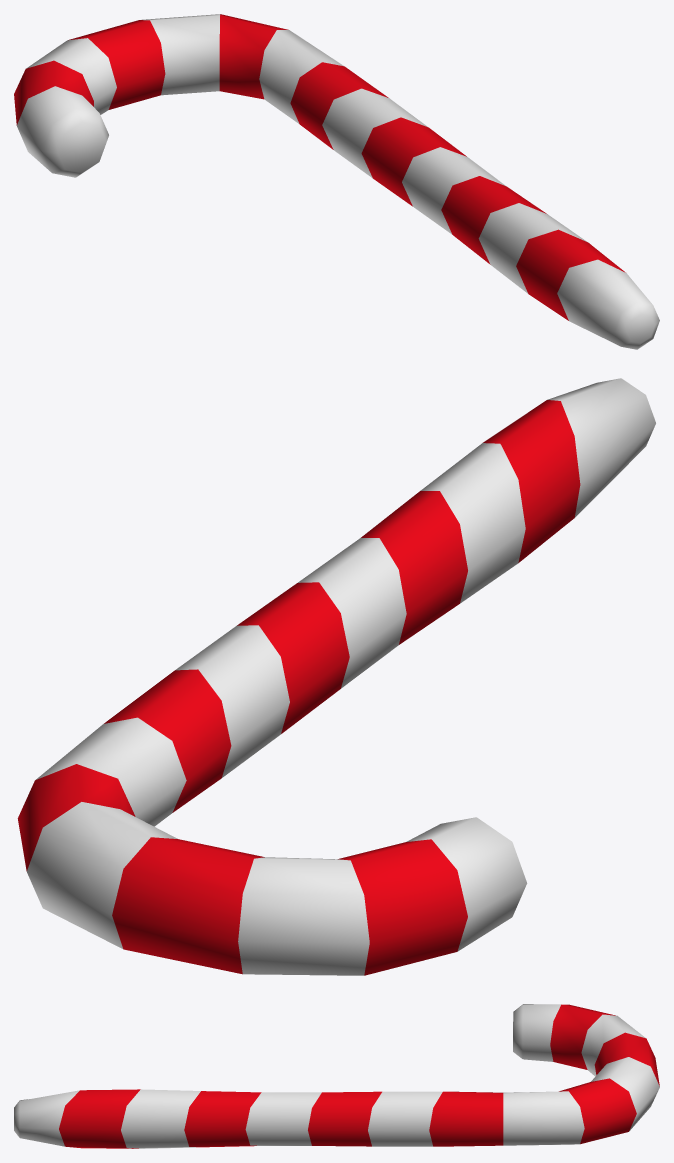
Rendered from candycane_2022.glb.
3 renders of one model, top to bottom at view 1: azimuth 30°, elevation 25°; view 2: azimuth 150°, elevation 25°; view 3: azimuth 270°, elevation 25°, orthographic. The views are drawn at different scales.
Visible parts, largest first — view 1: 1.029, 0.035; view 2: 1.029, 0.035; view 3: 1.029, 0.035.
Part boxes in pixels (x1,y1,x2,y2): 1.029: (17,14,659,349); 0.035: (14,14,625,320); 1.029: (27,378,655,975); 0.035: (17,400,580,975); 1.029: (14,1004,659,1148); 0.035: (59,1004,659,1148).
Size of the model in its own units: 0.2244 by 0.0557 by 0.5479.
